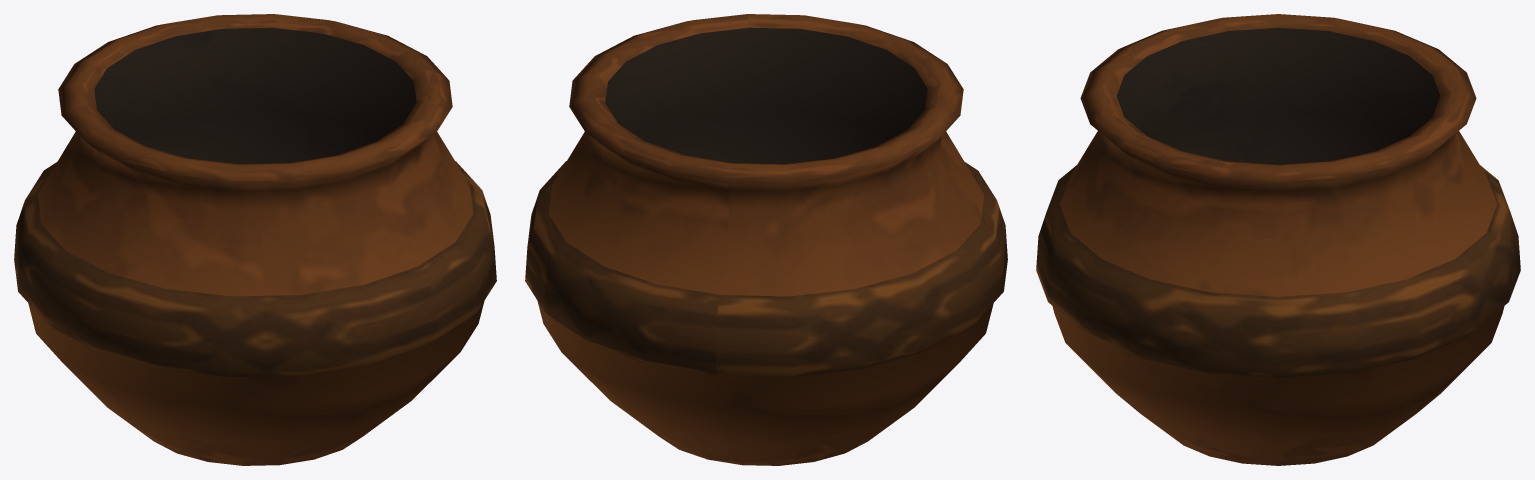
The model's file is Vase_2.gltf.
3 renders of one model, left to right at view 1: azimuth 30°, elevation 25°; view 2: azimuth 150°, elevation 25°; view 3: azimuth 270°, elevation 25°, orthographic.
Visible parts, largest first — view 1: Vase_2; view 2: Vase_2; view 3: Vase_2.
Part boxes in pixels (left/top/right/bottom): Vase_2: left=14, top=14, right=496, bottom=465; Vase_2: left=525, top=14, right=1007, bottom=465; Vase_2: left=1036, top=14, right=1520, bottom=465.
Bounding box in the file's own units: 0.6947 × 0.5163 × 0.6947.
1 material, 1 textured.
